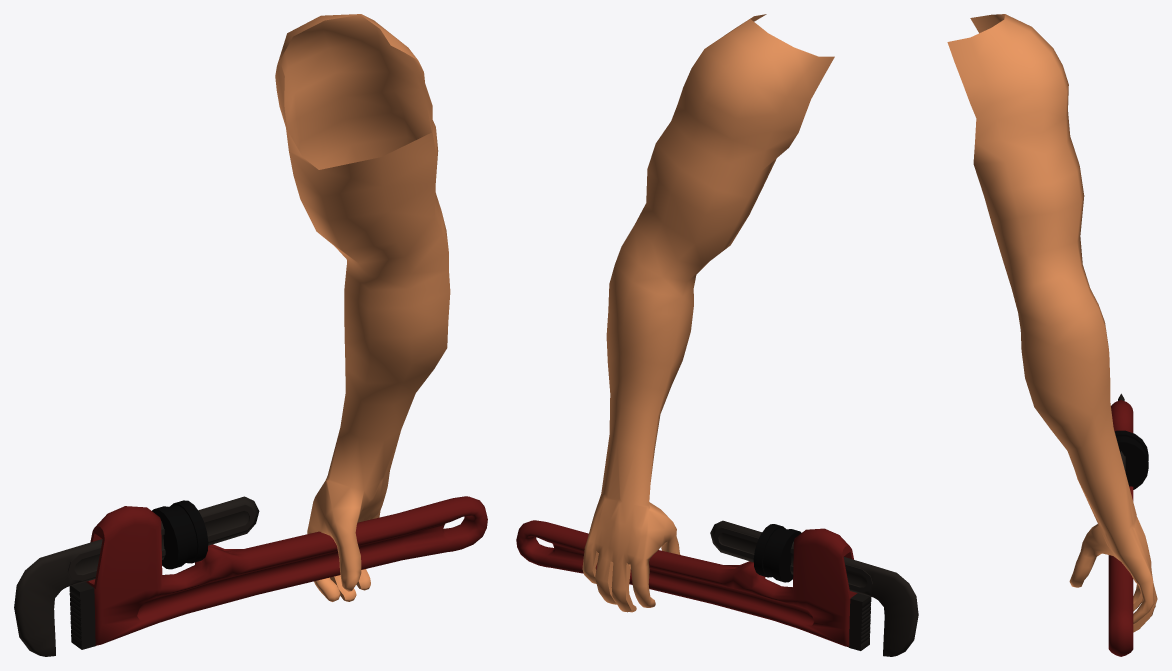
File: Youfuckingidiot.FBX
3 renders of one model, left to right at view 1: azimuth 30°, elevation 25°; view 2: azimuth 150°, elevation 25°; view 3: azimuth 270°, elevation 25°, orthographic. The views are drawn at different scales.
Parts seen in each view (by area): view 1: Boots, Box001, Box002, Cylinder001, Box003; view 2: Boots, Box001, Box002, Cylinder001, Box003; view 3: Boots, Box001, Cylinder001.
Boxes of the visible parts, x1,y1,x2,y2 form: Boots: (275, 14, 450, 601); Box001: (86, 496, 487, 645); Box002: (14, 496, 259, 656); Cylinder001: (152, 500, 208, 569); Box003: (69, 582, 95, 649); Boots: (582, 14, 834, 612); Box001: (516, 520, 857, 646); Box002: (710, 520, 918, 656); Cylinder001: (753, 524, 801, 582); Box003: (848, 593, 871, 650); Boots: (947, 14, 1157, 632); Box001: (1108, 400, 1133, 656); Cylinder001: (1114, 430, 1148, 489).
Bounding box in the file's own units: 120 × 160 × 52.84.
